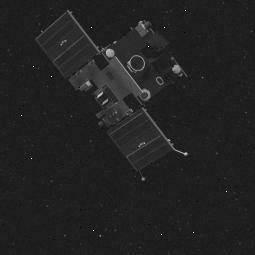proba_2: (34, 16, 192, 172)
